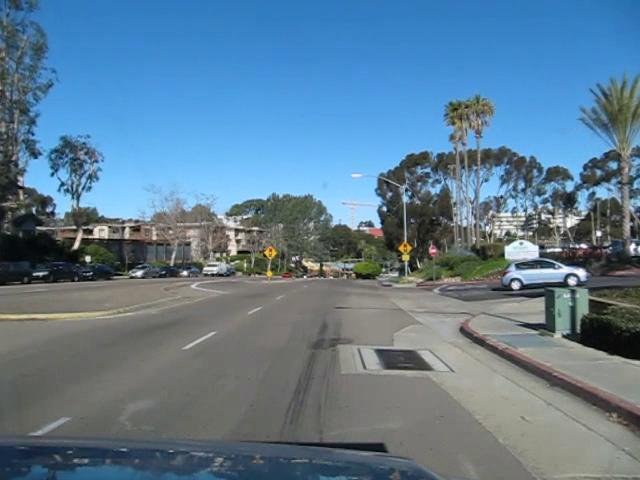signalAhead: (397, 240, 413, 256)
